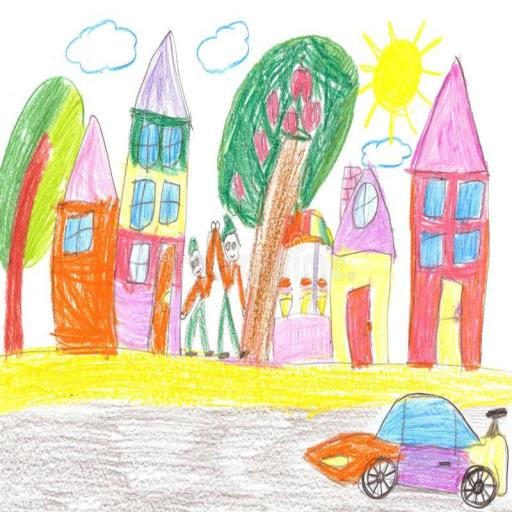person: (211, 212, 251, 358), (178, 221, 217, 363)
